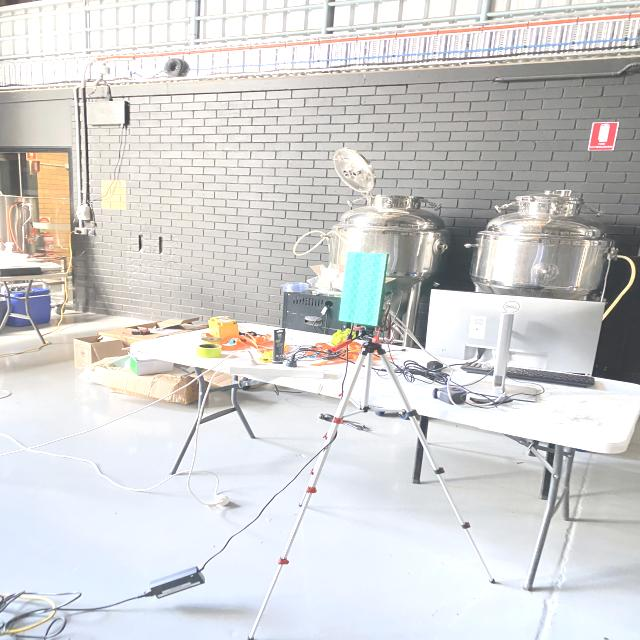matrix: (334, 248, 391, 328)
